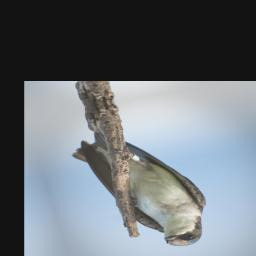Swallow: (64, 117, 219, 256)
